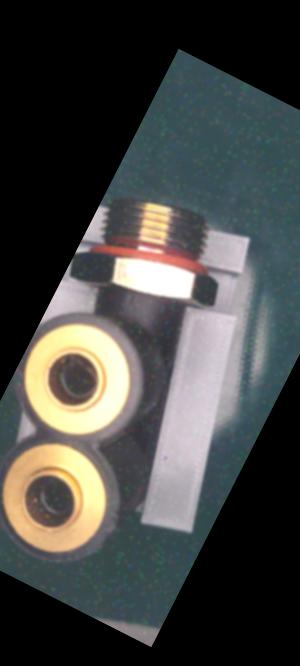off-centered: (44, 347, 108, 408)
white mark: (127, 300, 149, 321), (121, 288, 136, 307)
